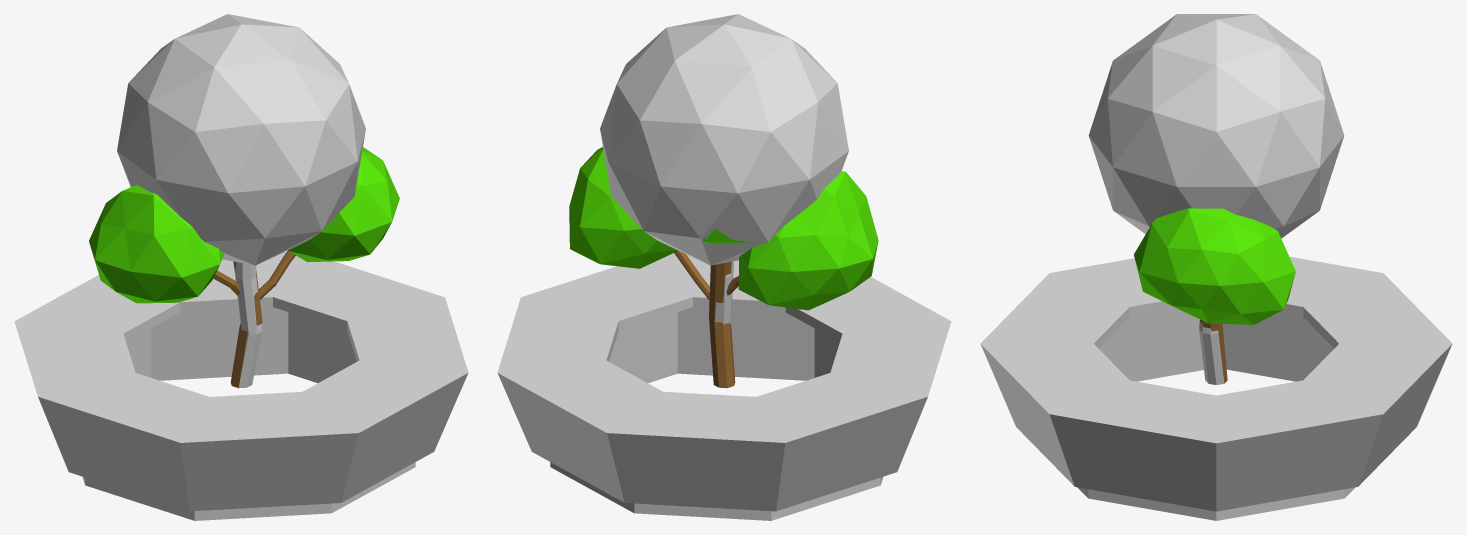
File: Treee (1).fbx
3 views of the same model, side by side, from view 1: azimuth 30°, elevation 25°; view 2: azimuth 150°, elevation 25°; view 3: azimuth 270°, elevation 25° (orthographic).
Visible parts, largest first — view 1: Circle, Circle.004, Circle.009, Circle.010, Circle.006; view 2: Circle, Circle.004, Circle.009, Circle.010, Circle.006; view 3: Circle, Circle.004, Circle.010.
Part boxes in pixels (x1,y1,x2,y2): Circle: (14,252,468,520); Circle.004: (117,14,365,388); Circle.009: (89,185,224,303); Circle.010: (287,147,399,262); Circle.006: (230,261,262,387); Circle: (497,253,951,520); Circle.004: (600,14,848,353); Circle.009: (738,171,878,310); Circle.010: (569,147,678,268); Circle.006: (709,261,735,388); Circle: (980,256,1452,520); Circle.004: (1088,14,1344,384); Circle.010: (1133,208,1295,324).
Bounding box in the file's own units: 8434 × 8369 × 8434.
